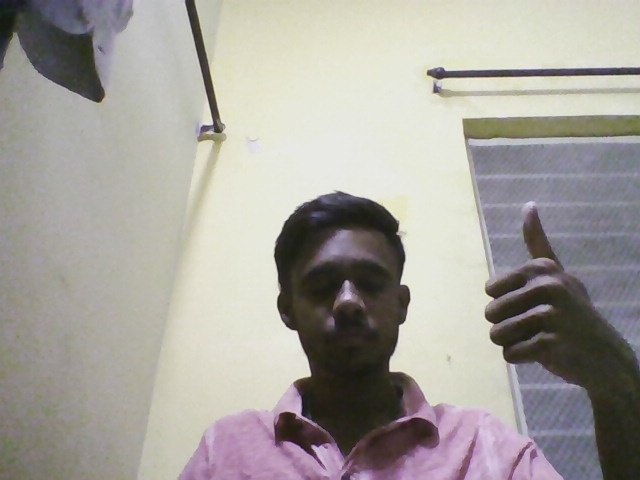yes: (486, 133, 595, 395)
